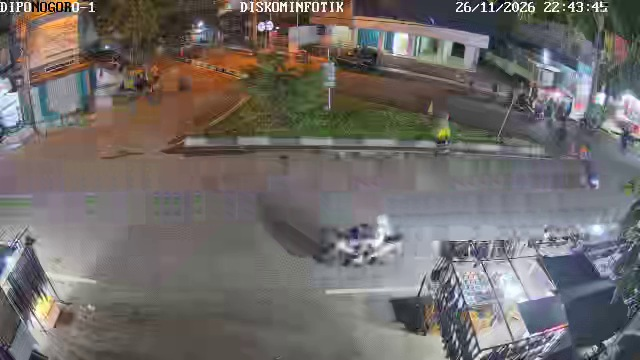Gerobak: (417, 239, 630, 359)
